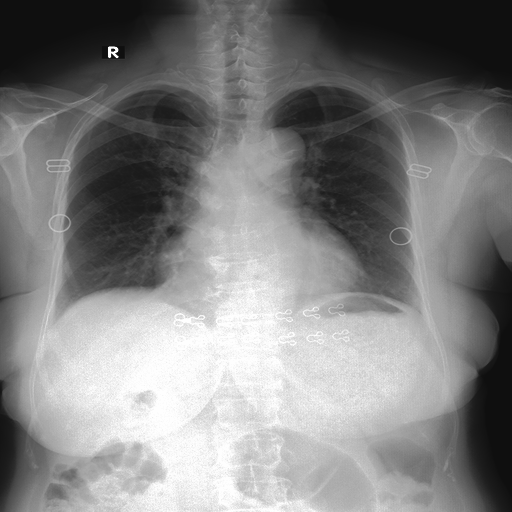Consolidation: (244, 128, 305, 168)
Nodule/Mass: (151, 235, 366, 295)
